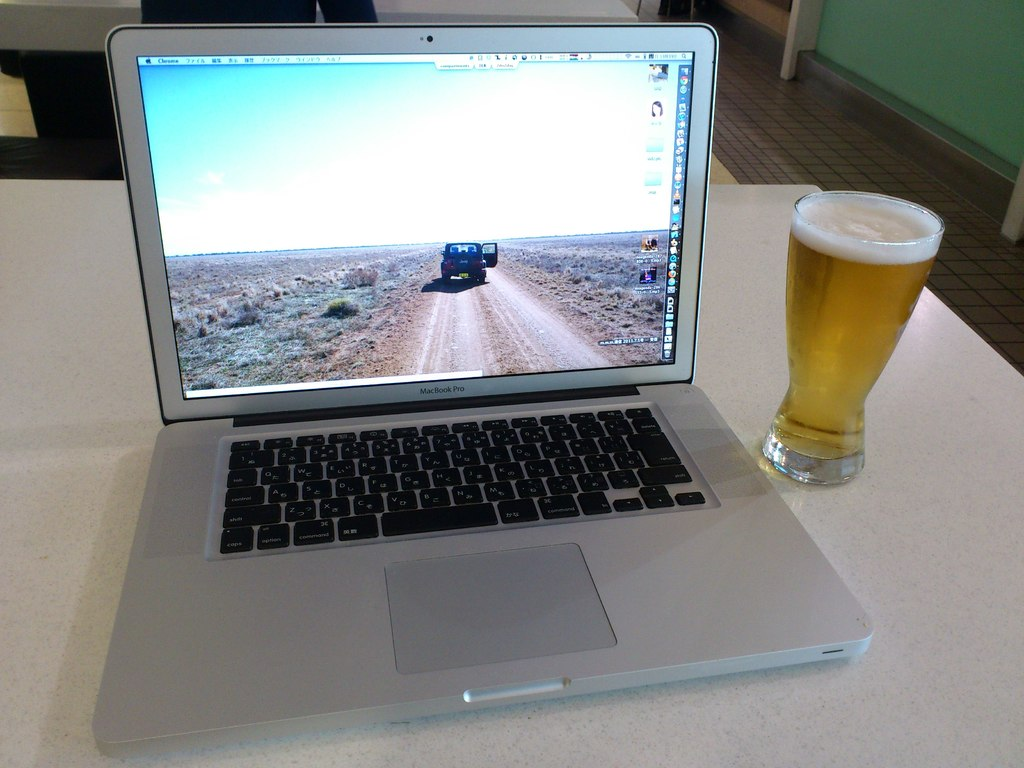Beer: (759, 188, 942, 490)
